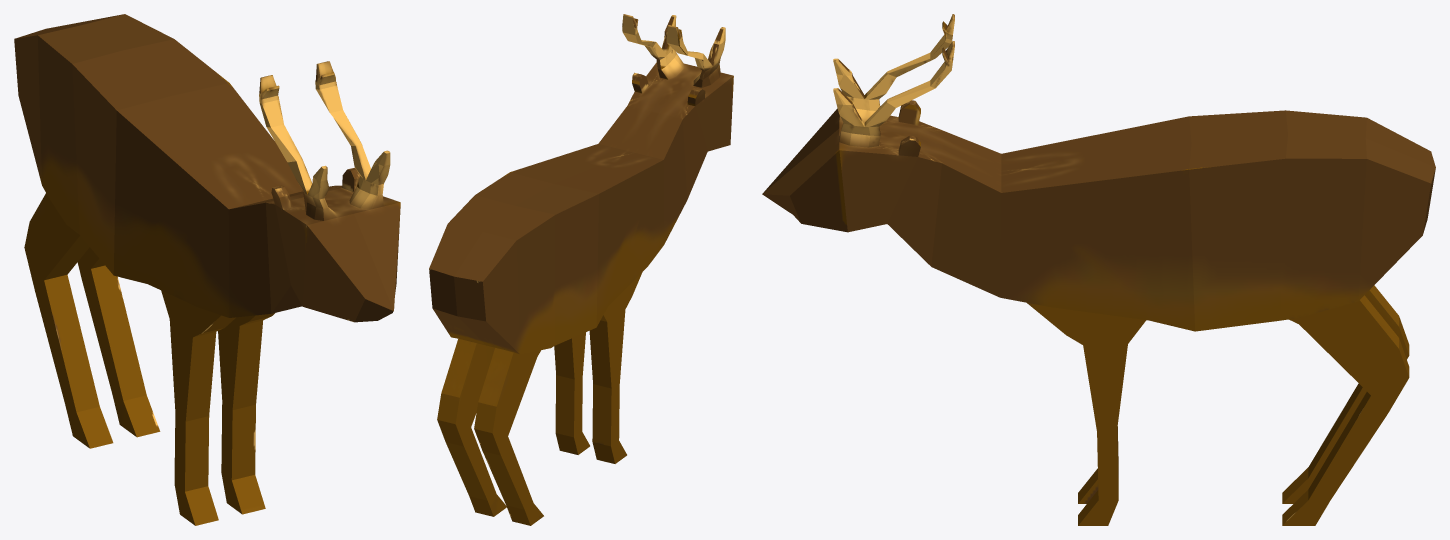
File: deer.glb
The picture shows the model from 3 angles, left to right: view 1: azimuth 30°, elevation 25°; view 2: azimuth 150°, elevation 25°; view 3: azimuth 270°, elevation 25°; orthographic projection. The views are drawn at different scales.
Parts seen in each view (by area): view 1: Cube; view 2: Cube; view 3: Cube.
Part boxes in pixels (x1,y1,x2,y2): Cube: (14, 14, 400, 525); Cube: (429, 14, 733, 525); Cube: (762, 14, 1435, 525).
Bounding box in the file's own units: 0.696 × 2.92 × 3.72.
Materials: 1 (1 with a texture image).
